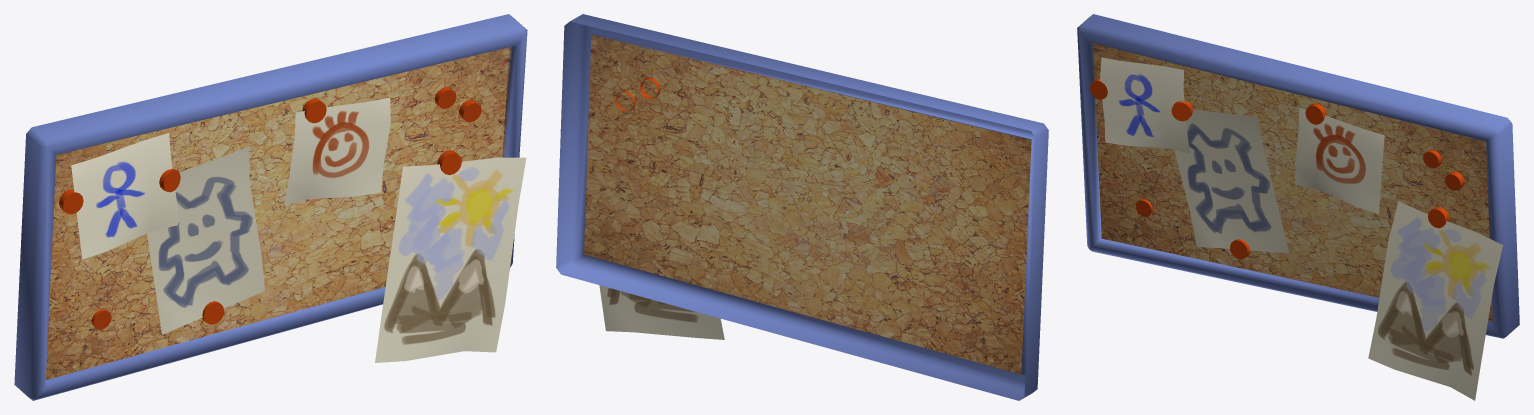
File: cork.fbx
3 views of the same model, side by side, from view 1: azimuth 30°, elevation 25°; view 2: azimuth 150°, elevation 25°; view 3: azimuth 330°, elevation 25° (orthographic). The views are drawn at different scales.
Visible parts, largest first — view 1: cork; view 2: cork; view 3: cork.
Boxes of the visible parts, box(x1,y1,x2,y2) form: cork: box(14, 14, 527, 400); cork: box(556, 14, 1048, 400); cork: box(1077, 14, 1519, 400).
Bounding box in the file's own units: 3.44 × 2.19 × 0.4056.
